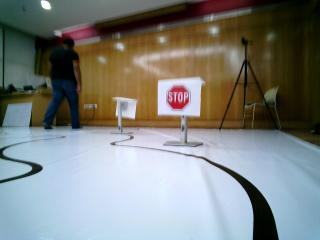stop: (159, 82, 201, 110)
